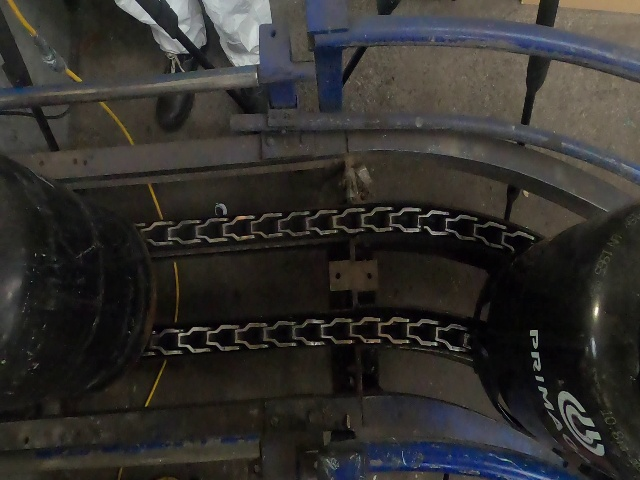gas_bottle: (0, 2, 627, 480)
